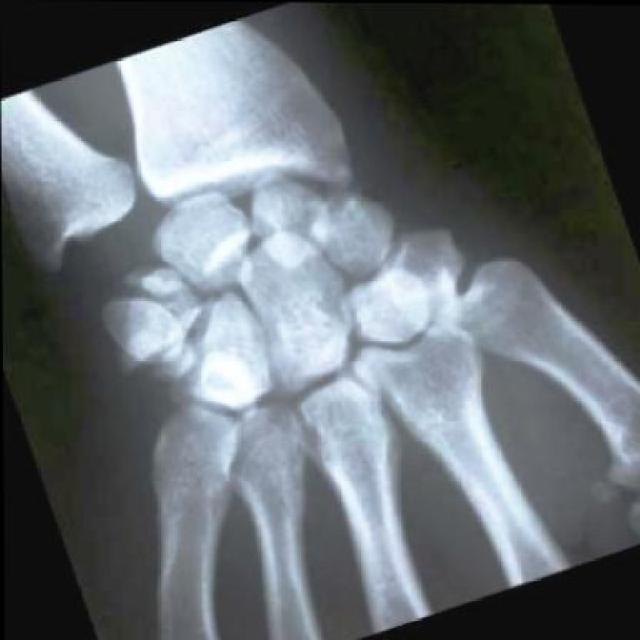Fracture: (291, 186, 369, 250)
